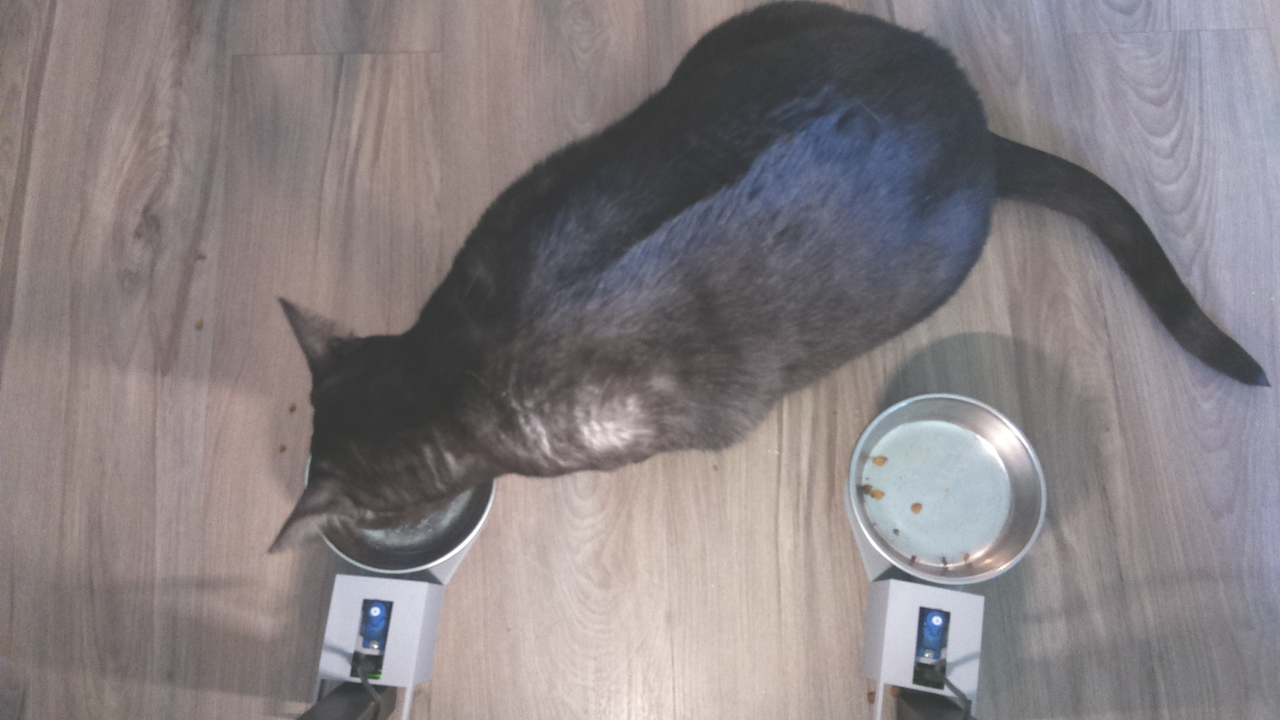open_bowl: (842, 386, 1045, 594)
saki_eating: (265, 293, 500, 578)
